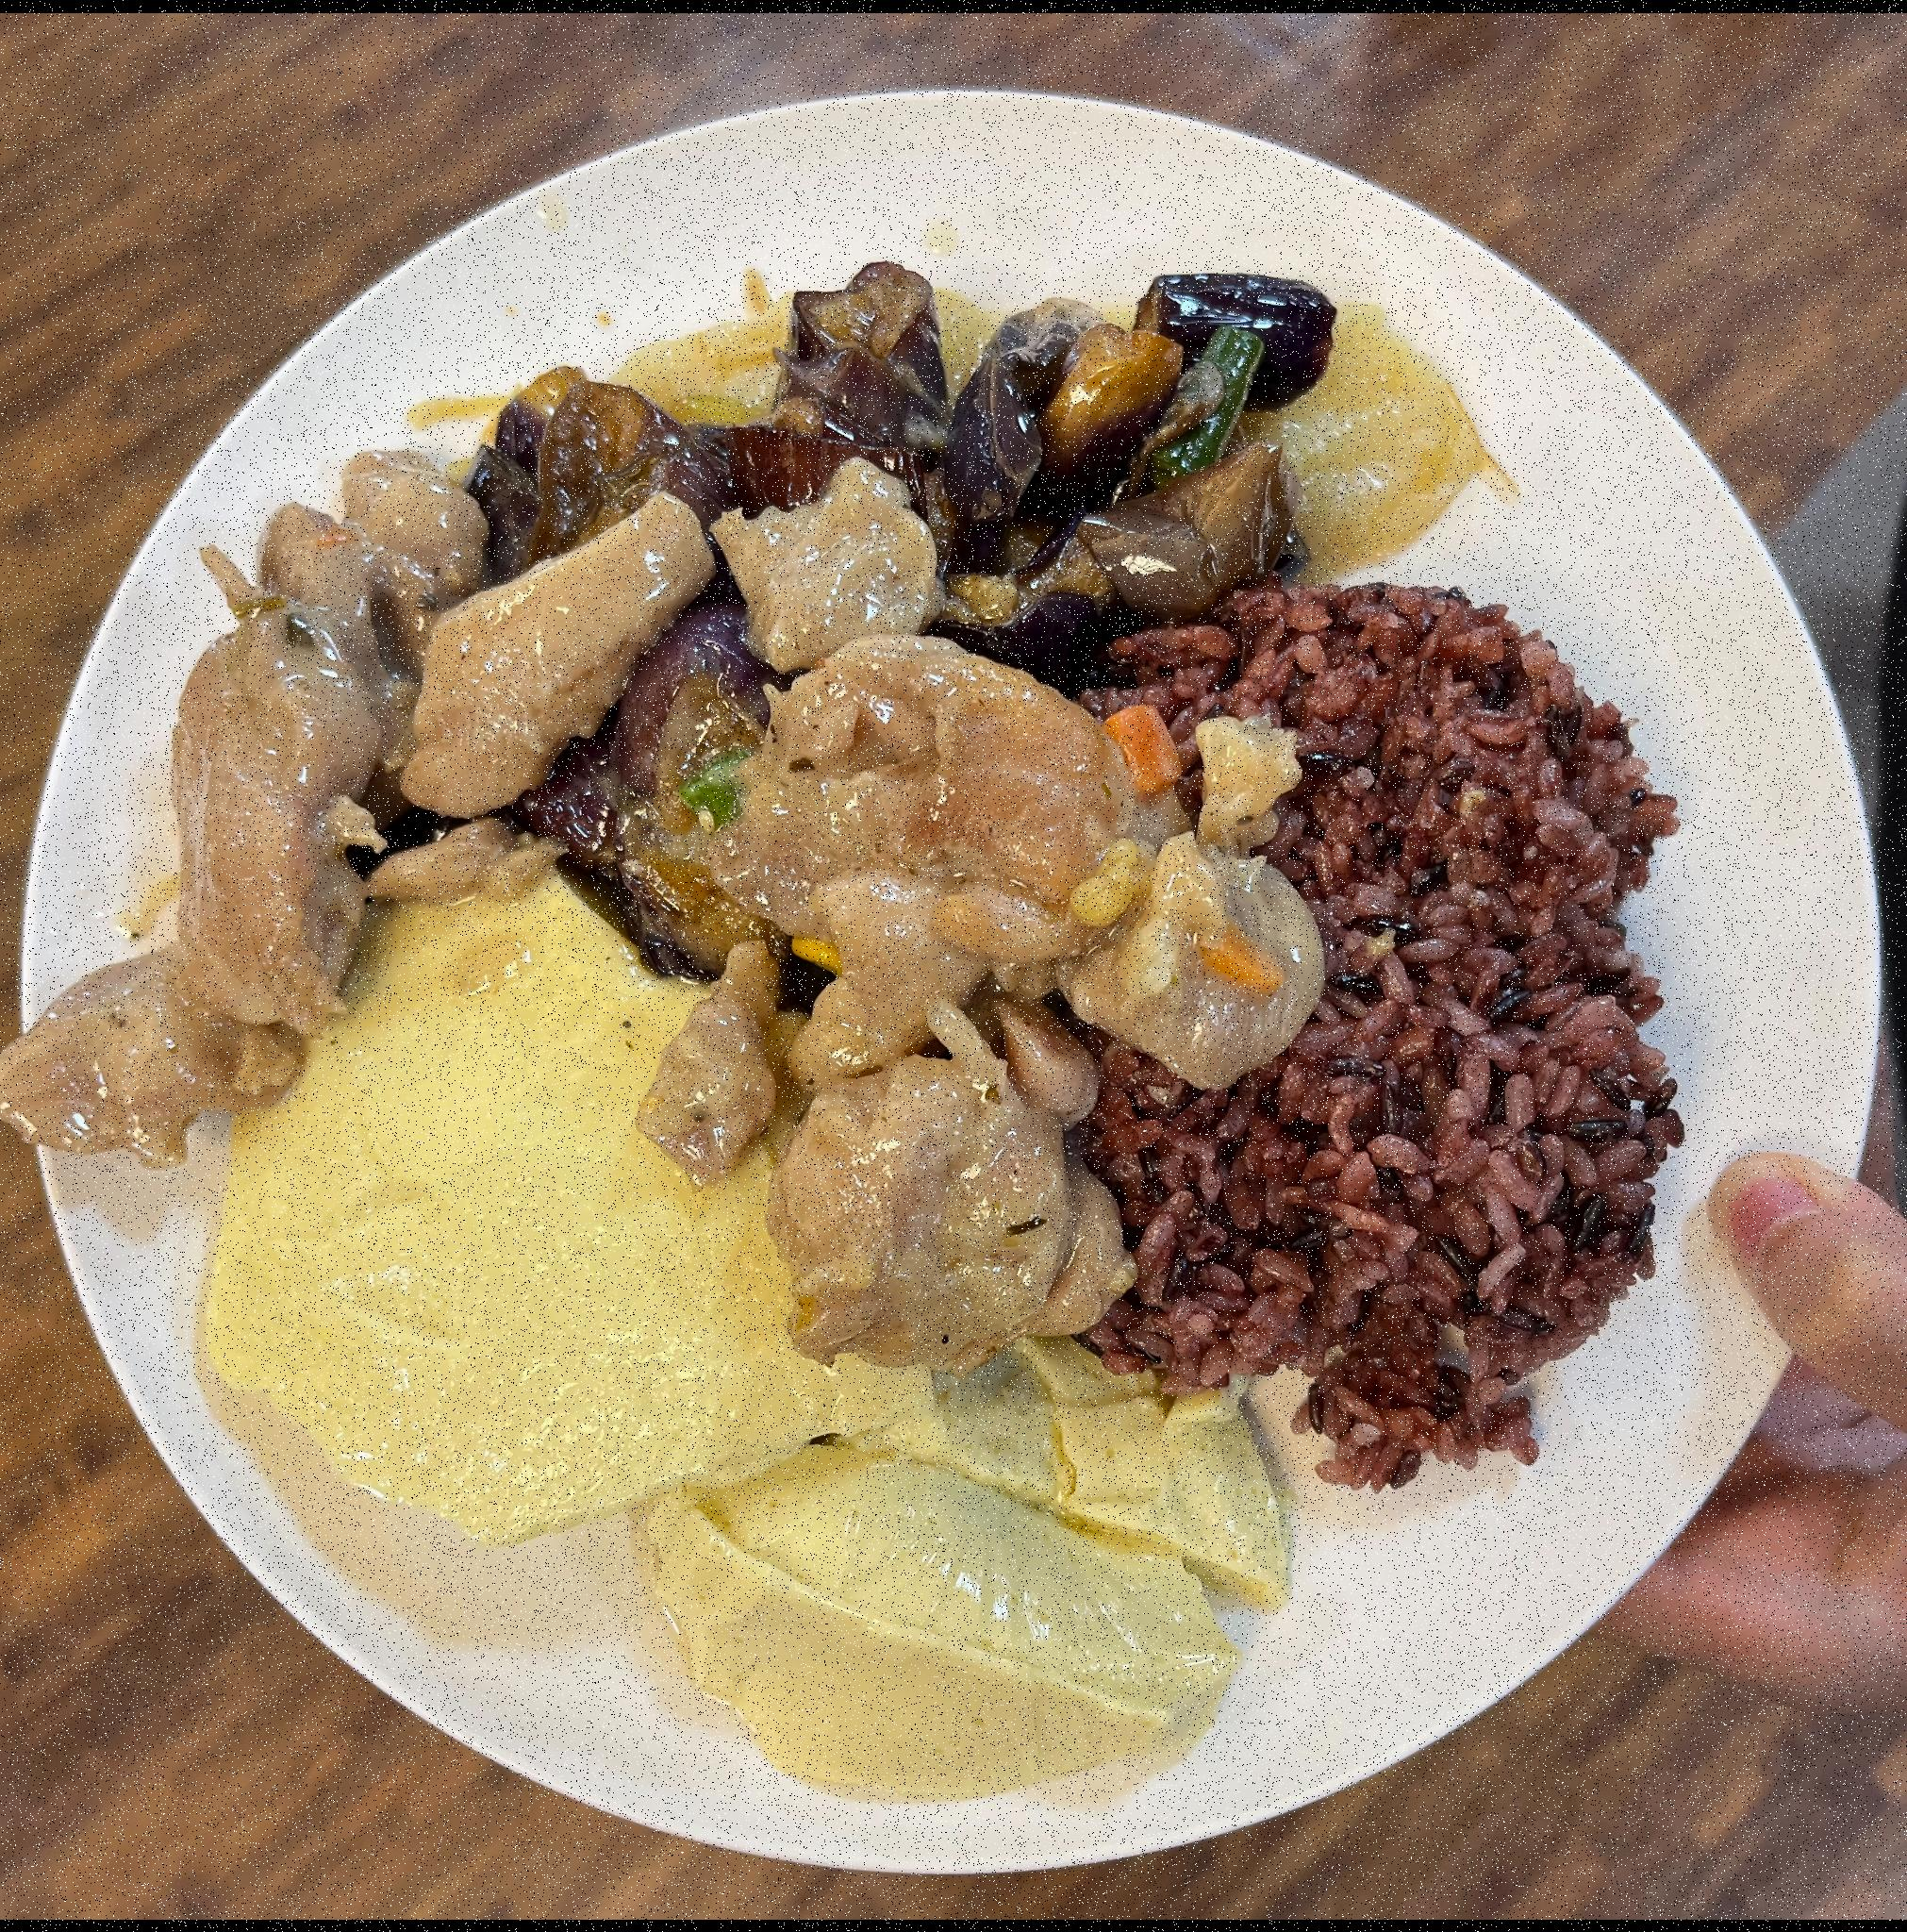plate: (28, 59, 1907, 1880)
purple rice: (1041, 564, 1703, 1495)
side dish: (178, 858, 1303, 1799), (459, 253, 1446, 589)
white sauce chicken: (2, 484, 1282, 1389)
